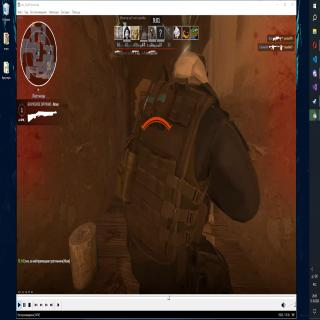CT-Body: (129, 55, 244, 289)
CT-Head: (169, 48, 210, 88)
